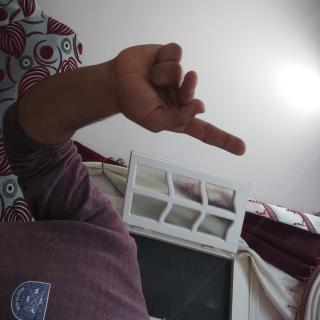DHAA: (25, 94, 129, 284)
